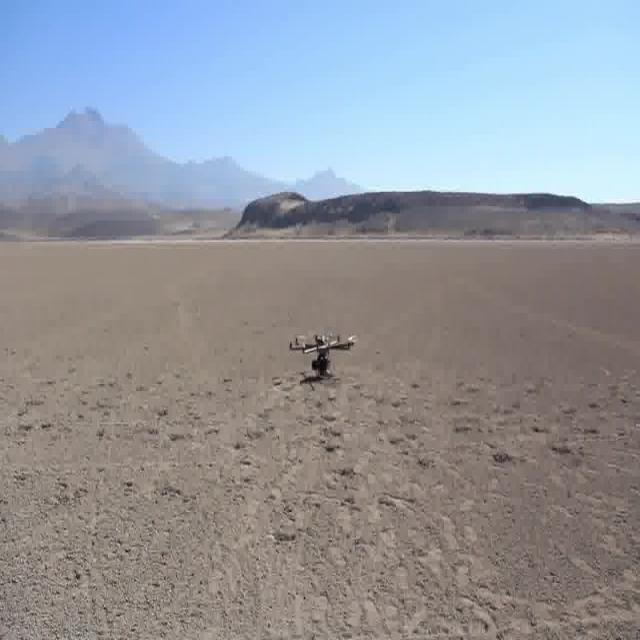drone: (280, 318, 364, 391)
